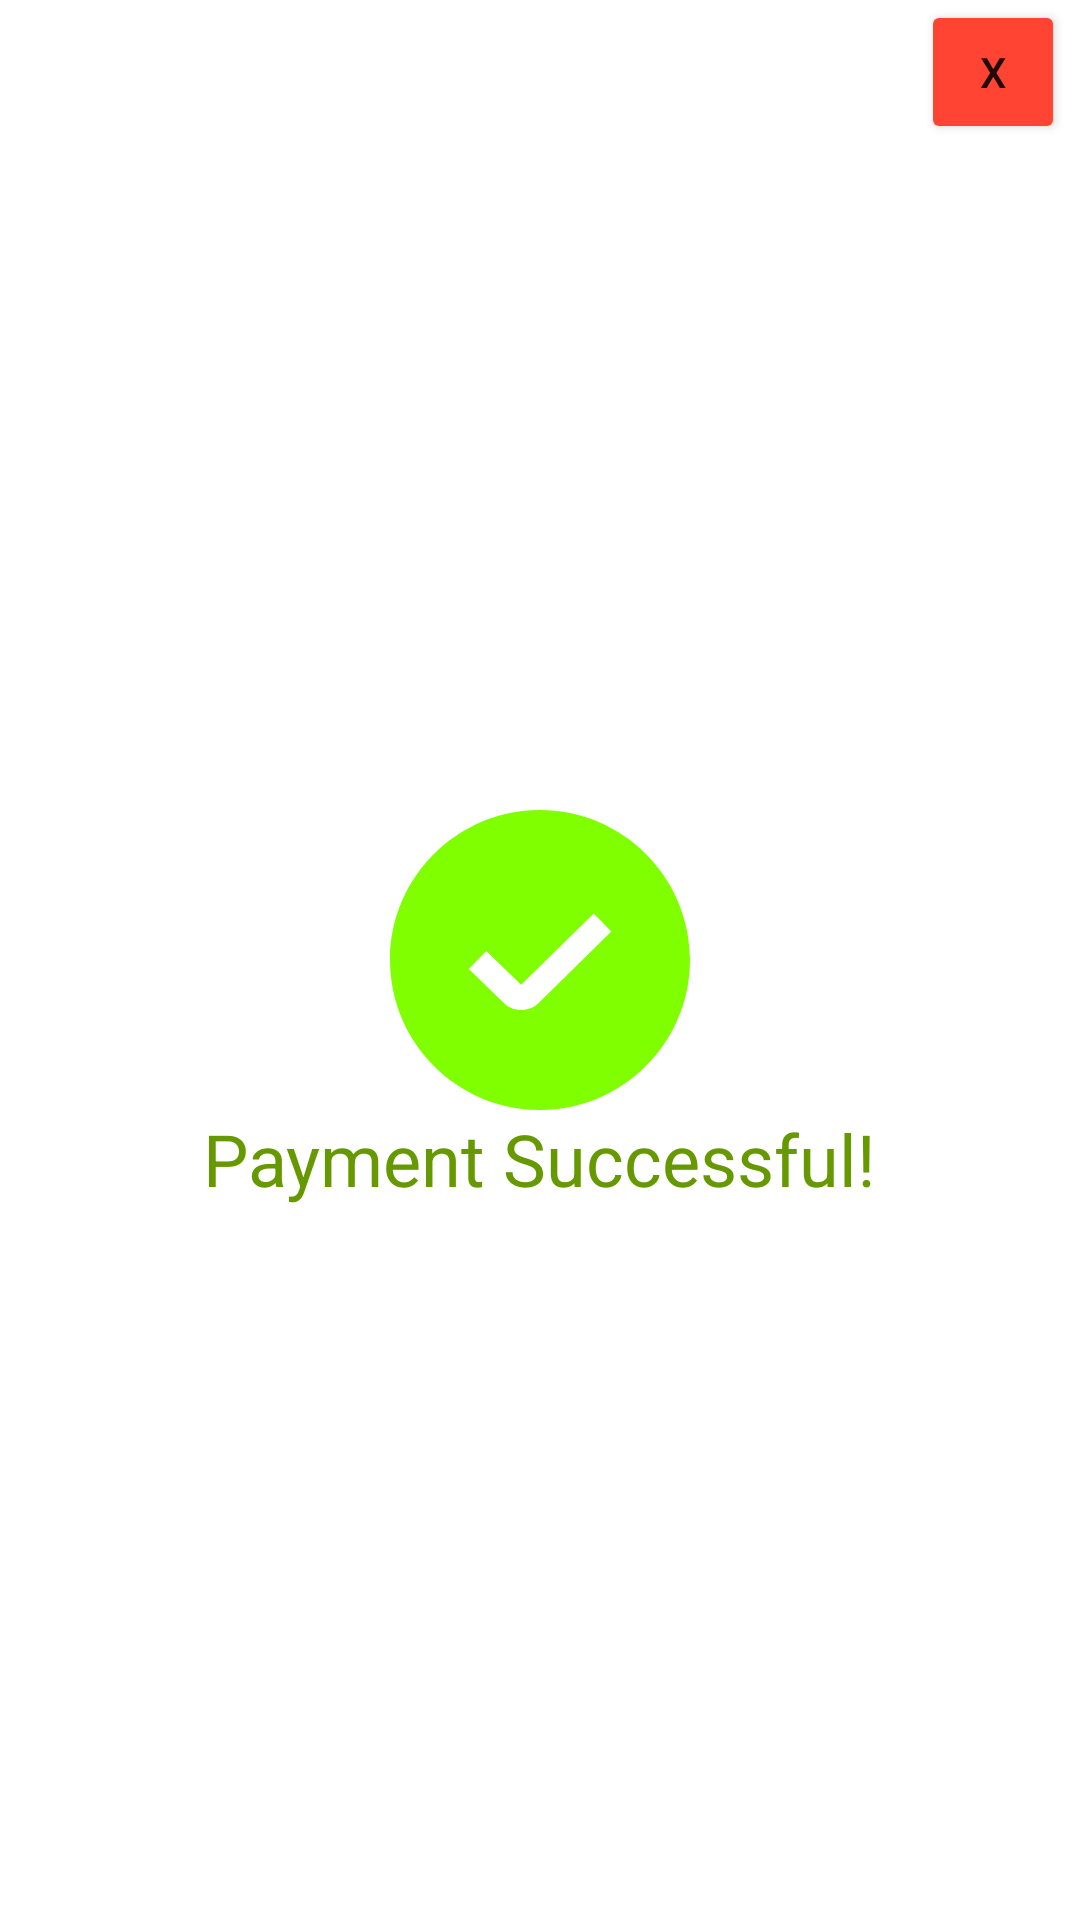

Locate icon controls on the screen. Image size 1080*1920, boxes as (x1, y1, x2, y2).
check circle: (390, 810, 690, 1110)
